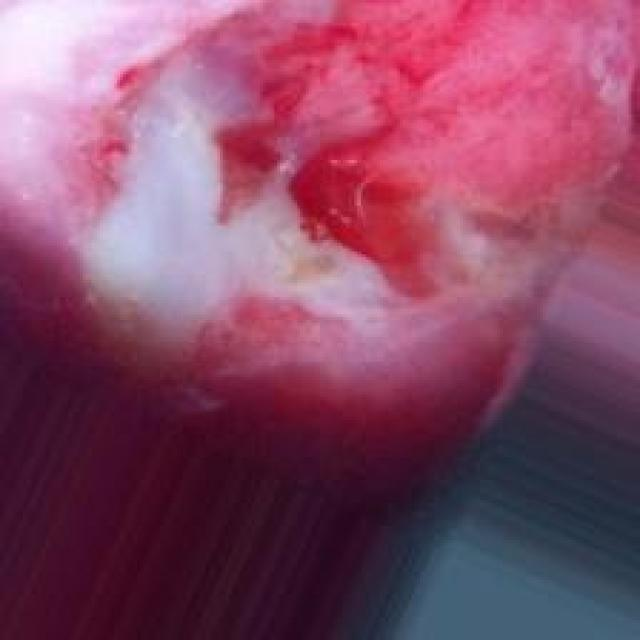type-1: (74, 11, 640, 468)
